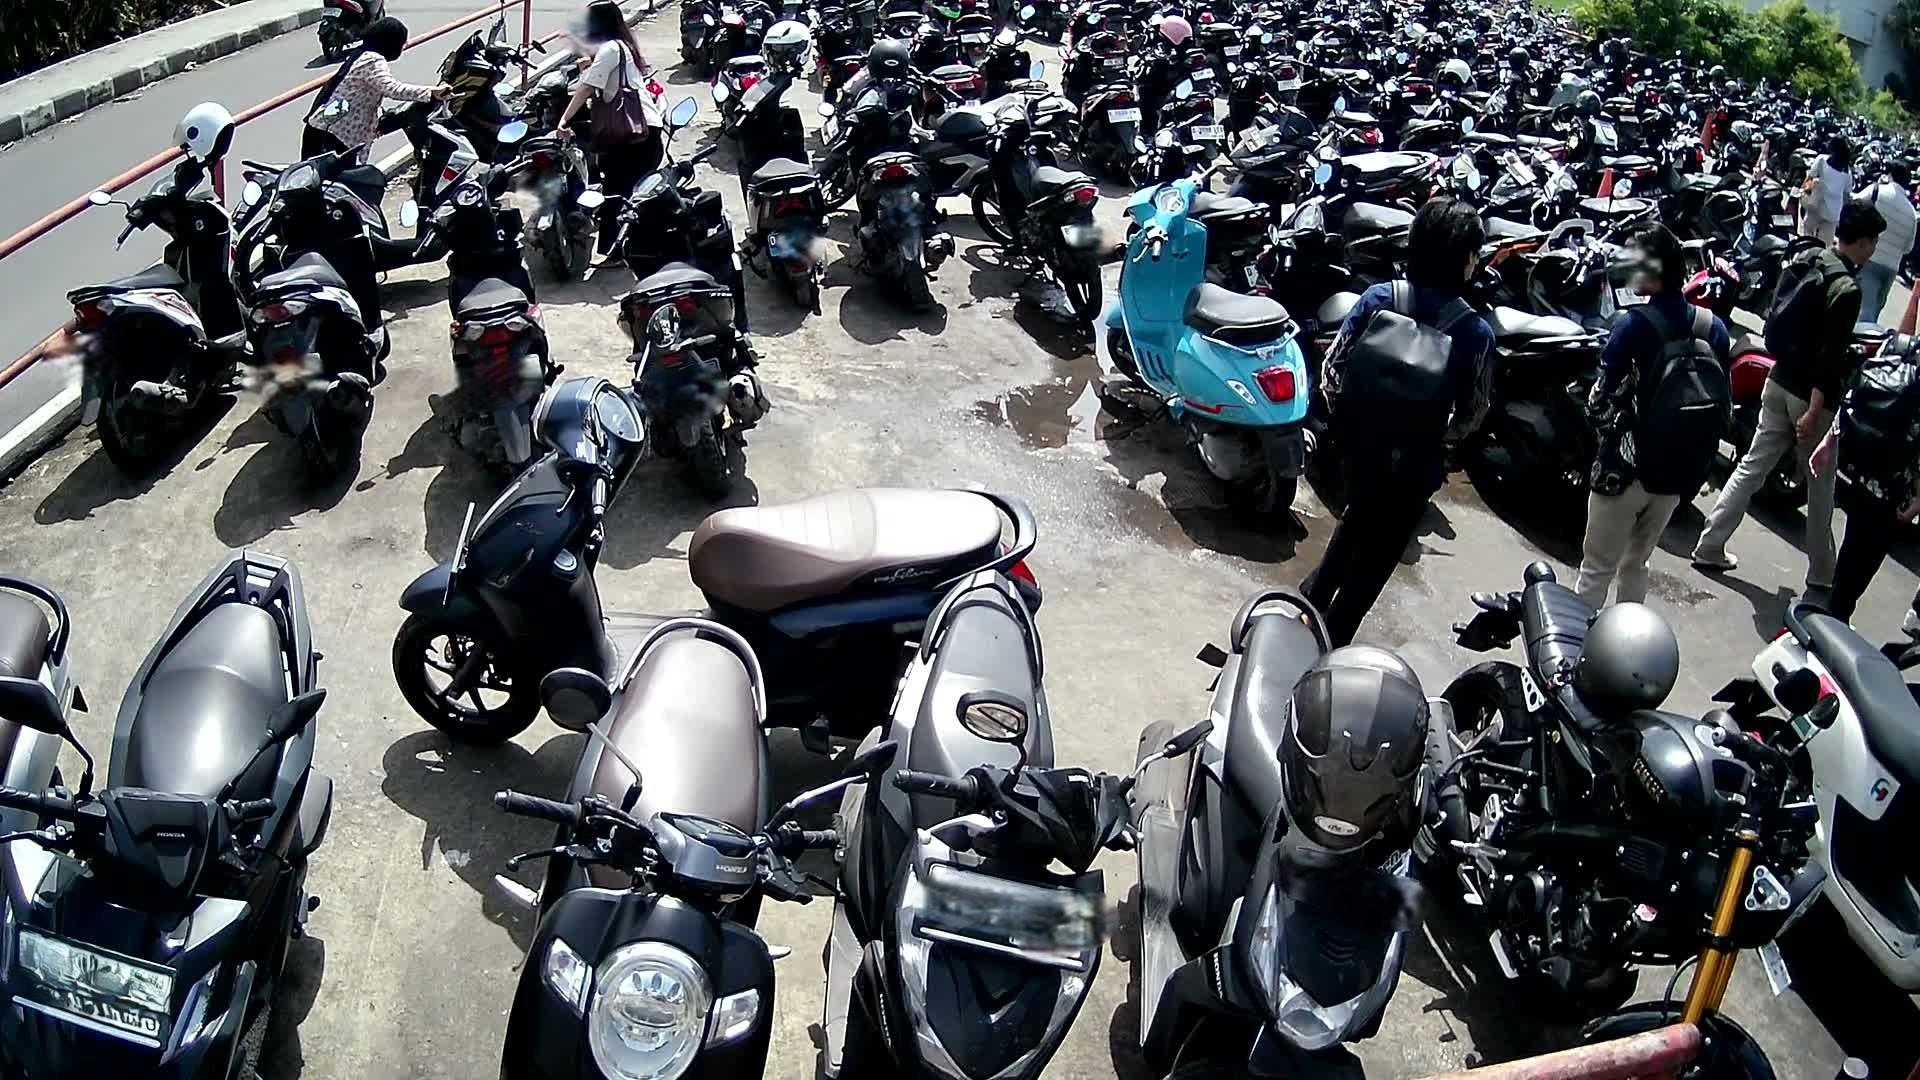motorcycle: (392, 365, 1042, 738), (1424, 564, 1837, 1080), (8, 542, 343, 1079), (807, 570, 1153, 1080), (491, 620, 843, 1080), (1127, 587, 1449, 1080), (1713, 593, 1920, 1017), (1108, 166, 1315, 520), (579, 140, 771, 497), (63, 156, 243, 472), (233, 140, 396, 483), (404, 145, 564, 480), (0, 570, 91, 907)
